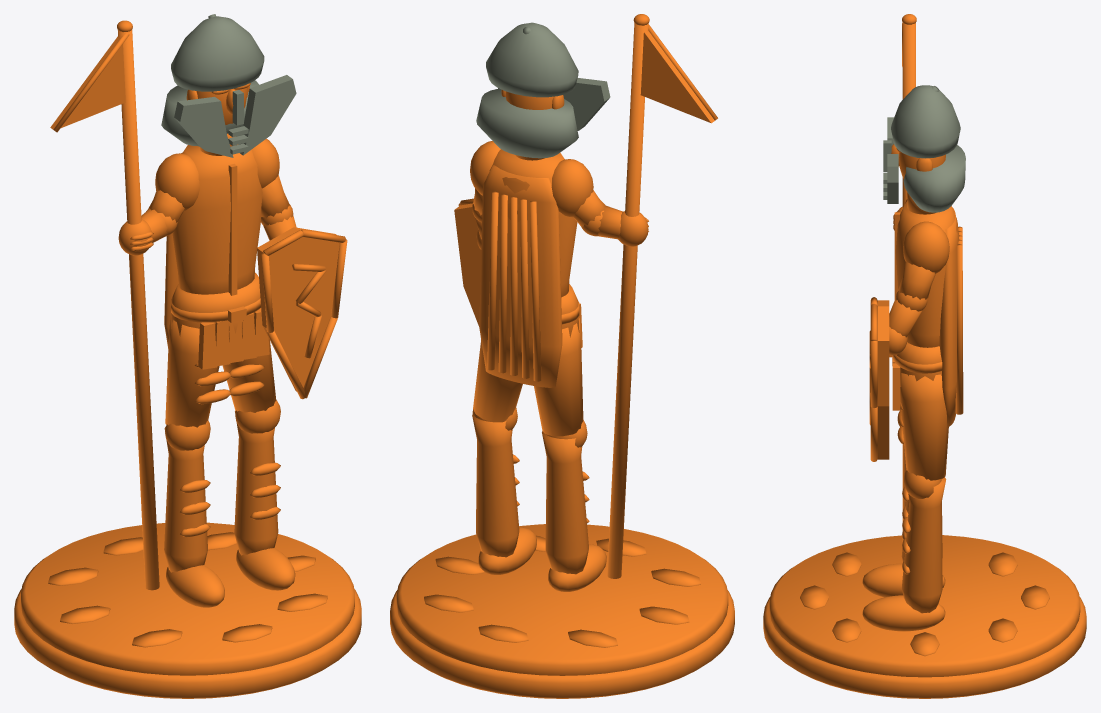
The model's file is knight-orange-level-1-helmet.fbx.
3 views of the same model, side by side, from view 1: azimuth 30°, elevation 25°; view 2: azimuth 150°, elevation 25°; view 3: azimuth 270°, elevation 25° (orthographic). The views are drawn at different scales.
Visible parts, largest first — view 1: Knight_Level_1_Helmet_Sculpt; view 2: Knight_Level_1_Helmet_Sculpt; view 3: Knight_Level_1_Helmet_Sculpt.
Part boxes in pixels (left/top/right/bottom): Knight_Level_1_Helmet_Sculpt: left=14, top=14, right=361, bottom=698; Knight_Level_1_Helmet_Sculpt: left=390, top=14, right=734, bottom=698; Knight_Level_1_Helmet_Sculpt: left=763, top=14, right=1086, bottom=698.
Size of the model in its own units: 0.012 by 0.024 by 0.012.
